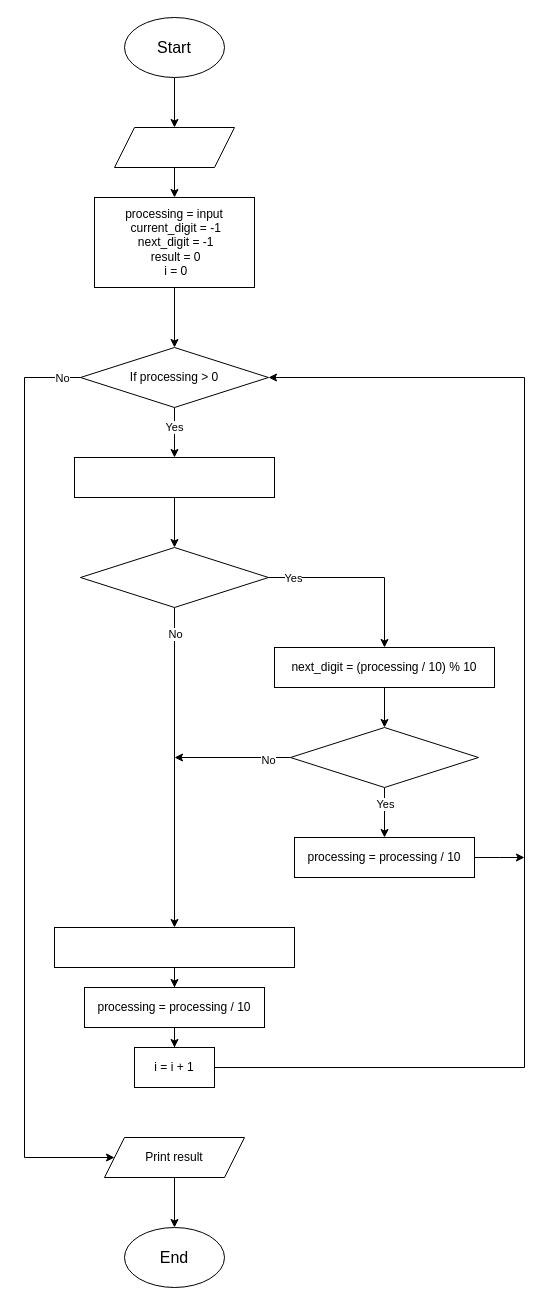
The diagram is 550 pixels wide and 1305 high, and some of its shapes have lost their labels. Here are the shapes that lost their labels. From the top down, the box of each, then its label:
(114, 126, 234, 168): Read input
(74, 456, 274, 498): current_digit = processing % 10
(80, 546, 268, 608): If current_digit == 0
(290, 726, 478, 788): If next_digit == 9
(54, 926, 294, 968): result = result + ((10^i) * current_digit)
